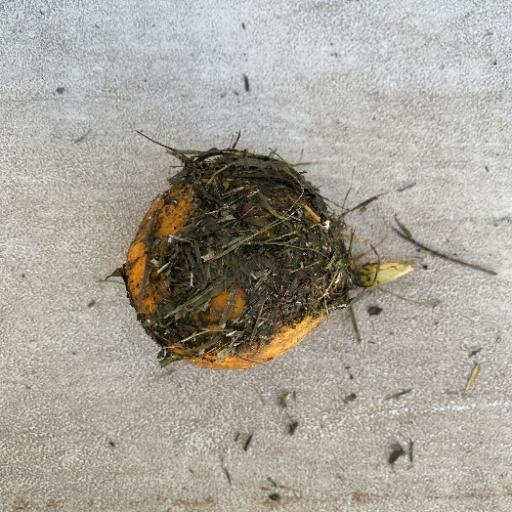Waste: (112, 130, 364, 371)
